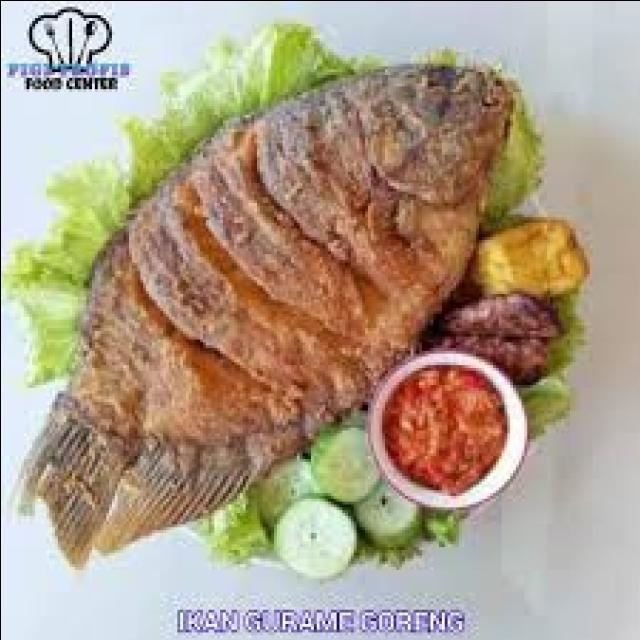ikan goreng: (31, 63, 540, 569)
